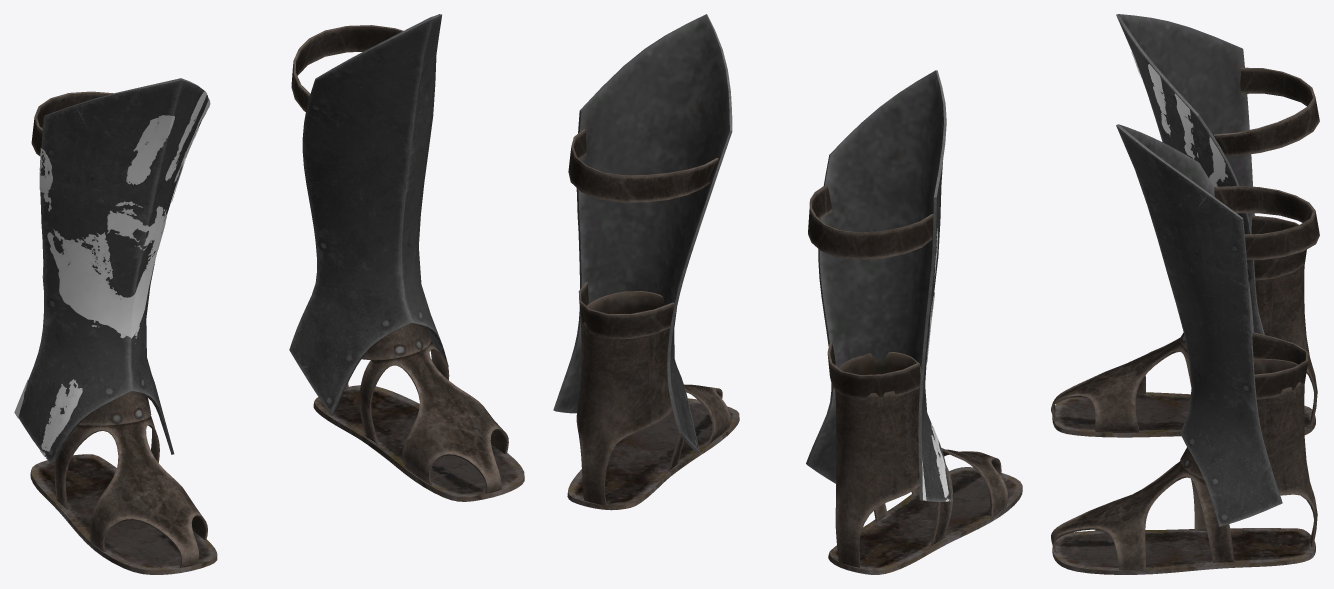
Rendered from sk_uruk_hai_greaves_medium_a2.fbx.
3 renders of one model, left to right at view 1: azimuth 30°, elevation 25°; view 2: azimuth 150°, elevation 25°; view 3: azimuth 270°, elevation 25°, orthographic. The views are drawn at different scales.
Parts seen in each view (by area): view 1: sk_uruk_hai_greaves_medium_a2.0, sk_uruk_hai_greaves_medium_a2.2, sk_uruk_hai_greaves_medium_a2.1; view 2: sk_uruk_hai_greaves_medium_a2.0, sk_uruk_hai_greaves_medium_a2.1, sk_uruk_hai_greaves_medium_a2.2; view 3: sk_uruk_hai_greaves_medium_a2.0, sk_uruk_hai_greaves_medium_a2.1, sk_uruk_hai_greaves_medium_a2.2.
Boxes of the visible parts, x1=… form: sk_uruk_hai_greaves_medium_a2.0: x1=18, y1=14, x2=524, y2=574; sk_uruk_hai_greaves_medium_a2.2: x1=14, y1=91, x2=210, y2=458; sk_uruk_hai_greaves_medium_a2.1: x1=31, y1=25, x2=403, y2=289; sk_uruk_hai_greaves_medium_a2.0: x1=553, y1=14, x2=1022, y2=574; sk_uruk_hai_greaves_medium_a2.1: x1=568, y1=129, x2=933, y2=399; sk_uruk_hai_greaves_medium_a2.2: x1=823, y1=106, x2=950, y2=501; sk_uruk_hai_greaves_medium_a2.0: x1=1051, y1=14, x2=1317, y2=574; sk_uruk_hai_greaves_medium_a2.1: x1=1214, y1=67, x2=1319, y2=399; sk_uruk_hai_greaves_medium_a2.2: x1=1131, y1=51, x2=1227, y2=186.
Bounding box in the file's own units: 0.4635 × 0.2936 × 0.5046.
3 materials, 3 textured.
